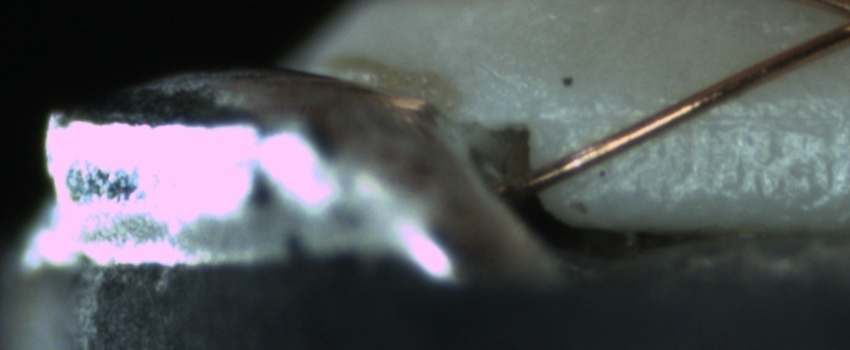CL: (824, 1, 850, 44)
DL: (562, 86, 843, 149)
